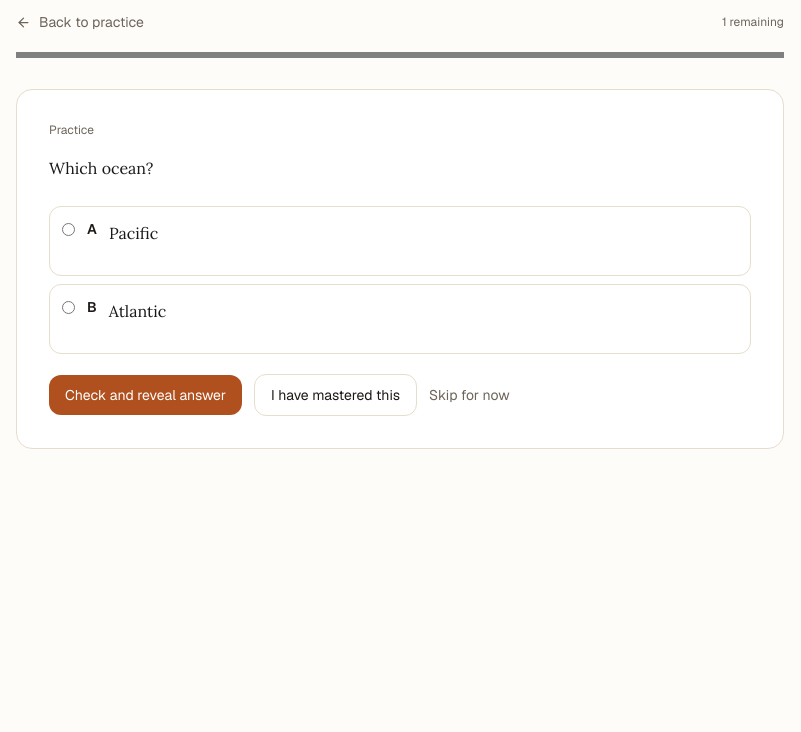
Test case: requires reloading a stale question instead of retrying its old version
Click the radio button labelled "B Atlantic" at x=68, y=308, box 62,301 -> 75,314
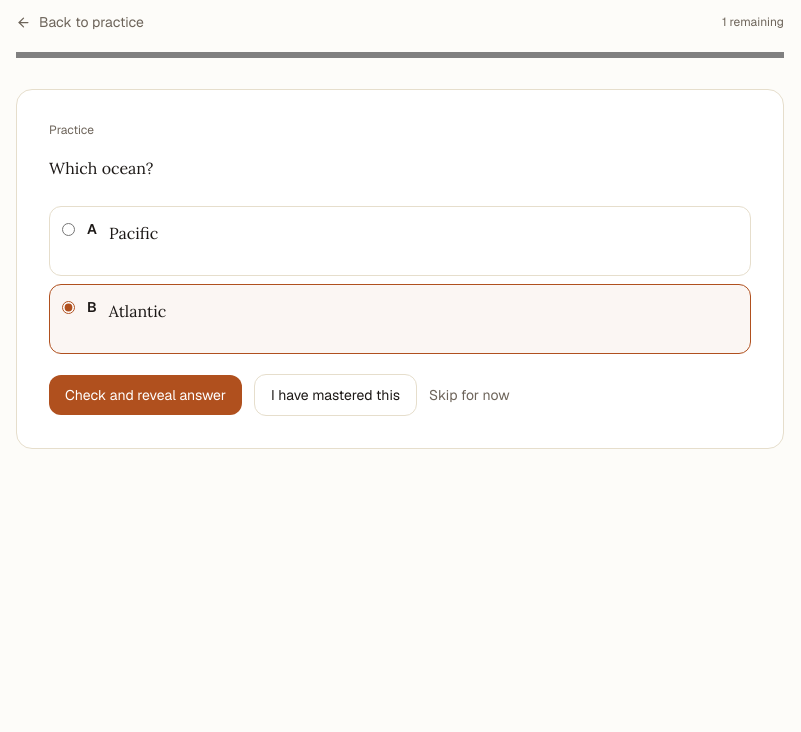
Click the button "Check and reveal answer" at x=146, y=395, box 49,375 -> 242,415
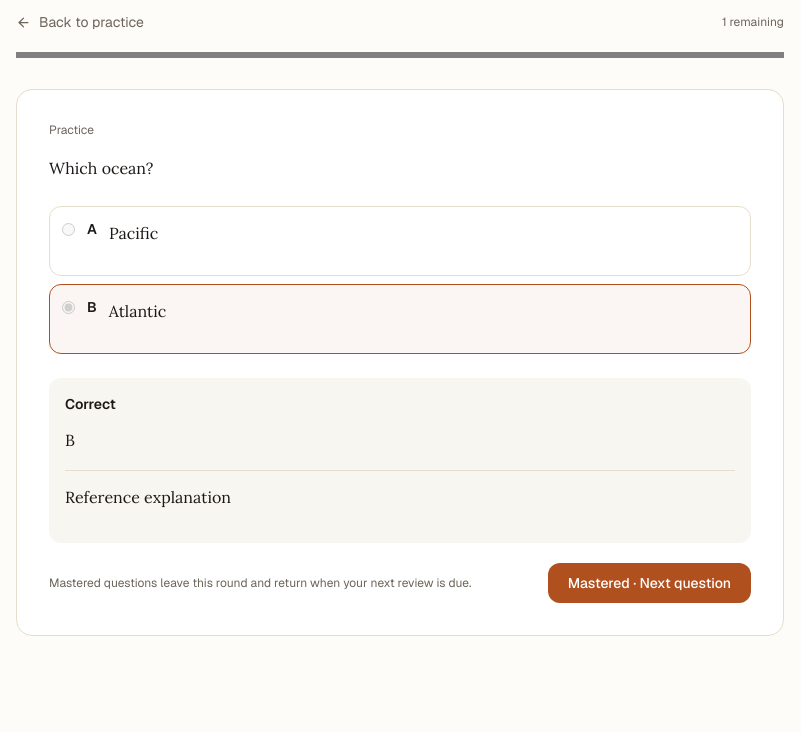
Click the button "Mastered · Next question" at x=649, y=583, box 548,563 -> 751,603
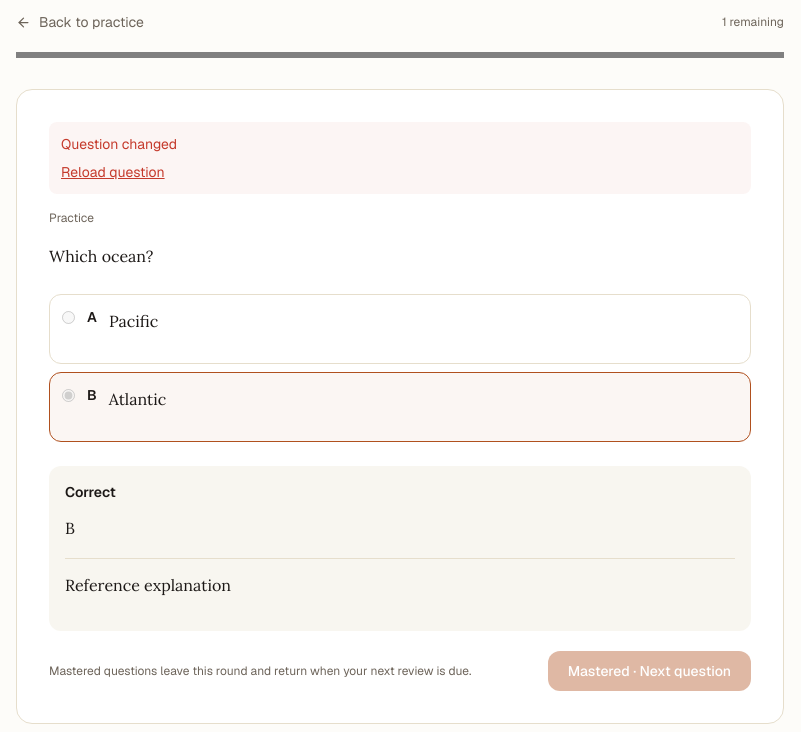
Click the button "Reload question" at x=113, y=172, box 61,162 -> 165,182
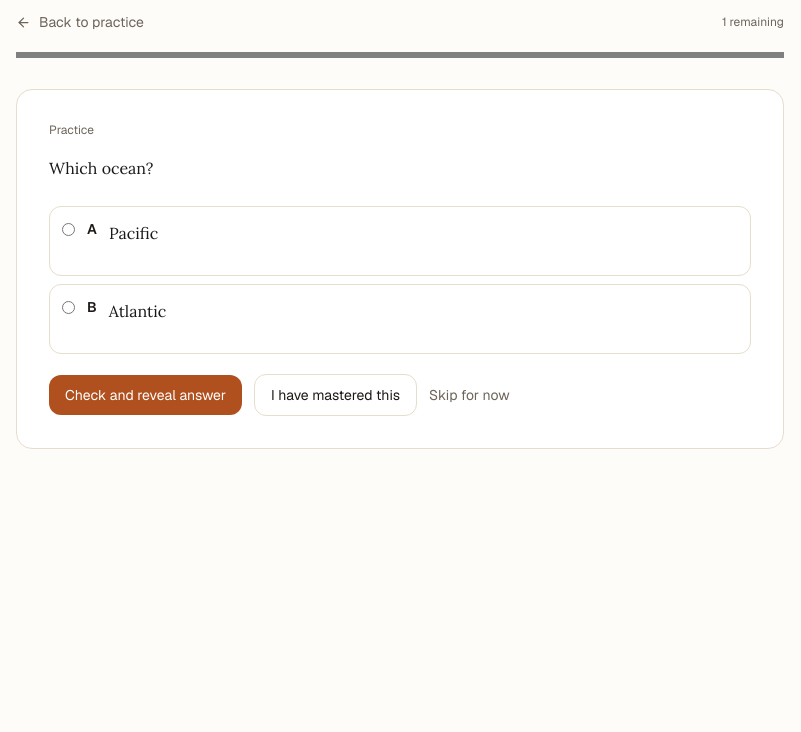
Now the text "Reference explanation" is gone
